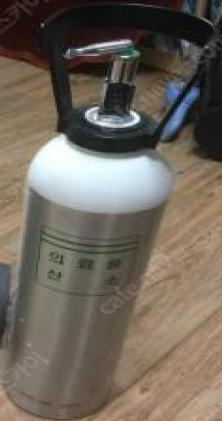cylinder: (0, 1, 222, 421)
